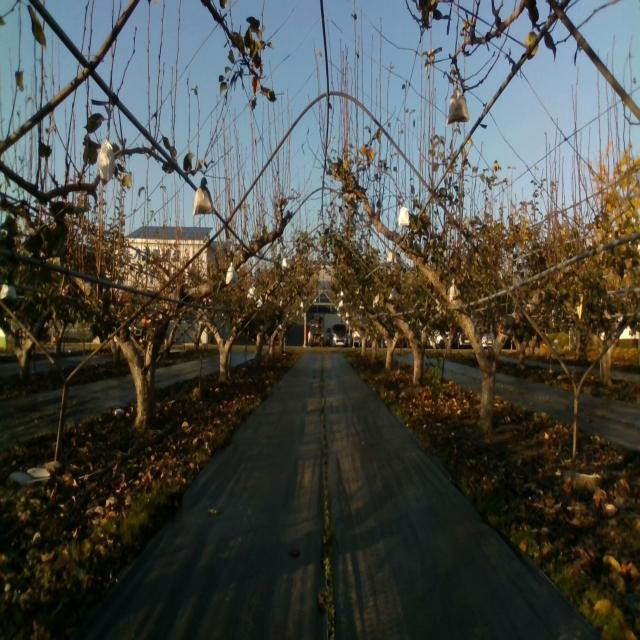pearbags: (192, 177, 216, 217), (446, 88, 470, 126), (98, 138, 116, 181), (225, 262, 240, 284), (398, 206, 409, 226)
